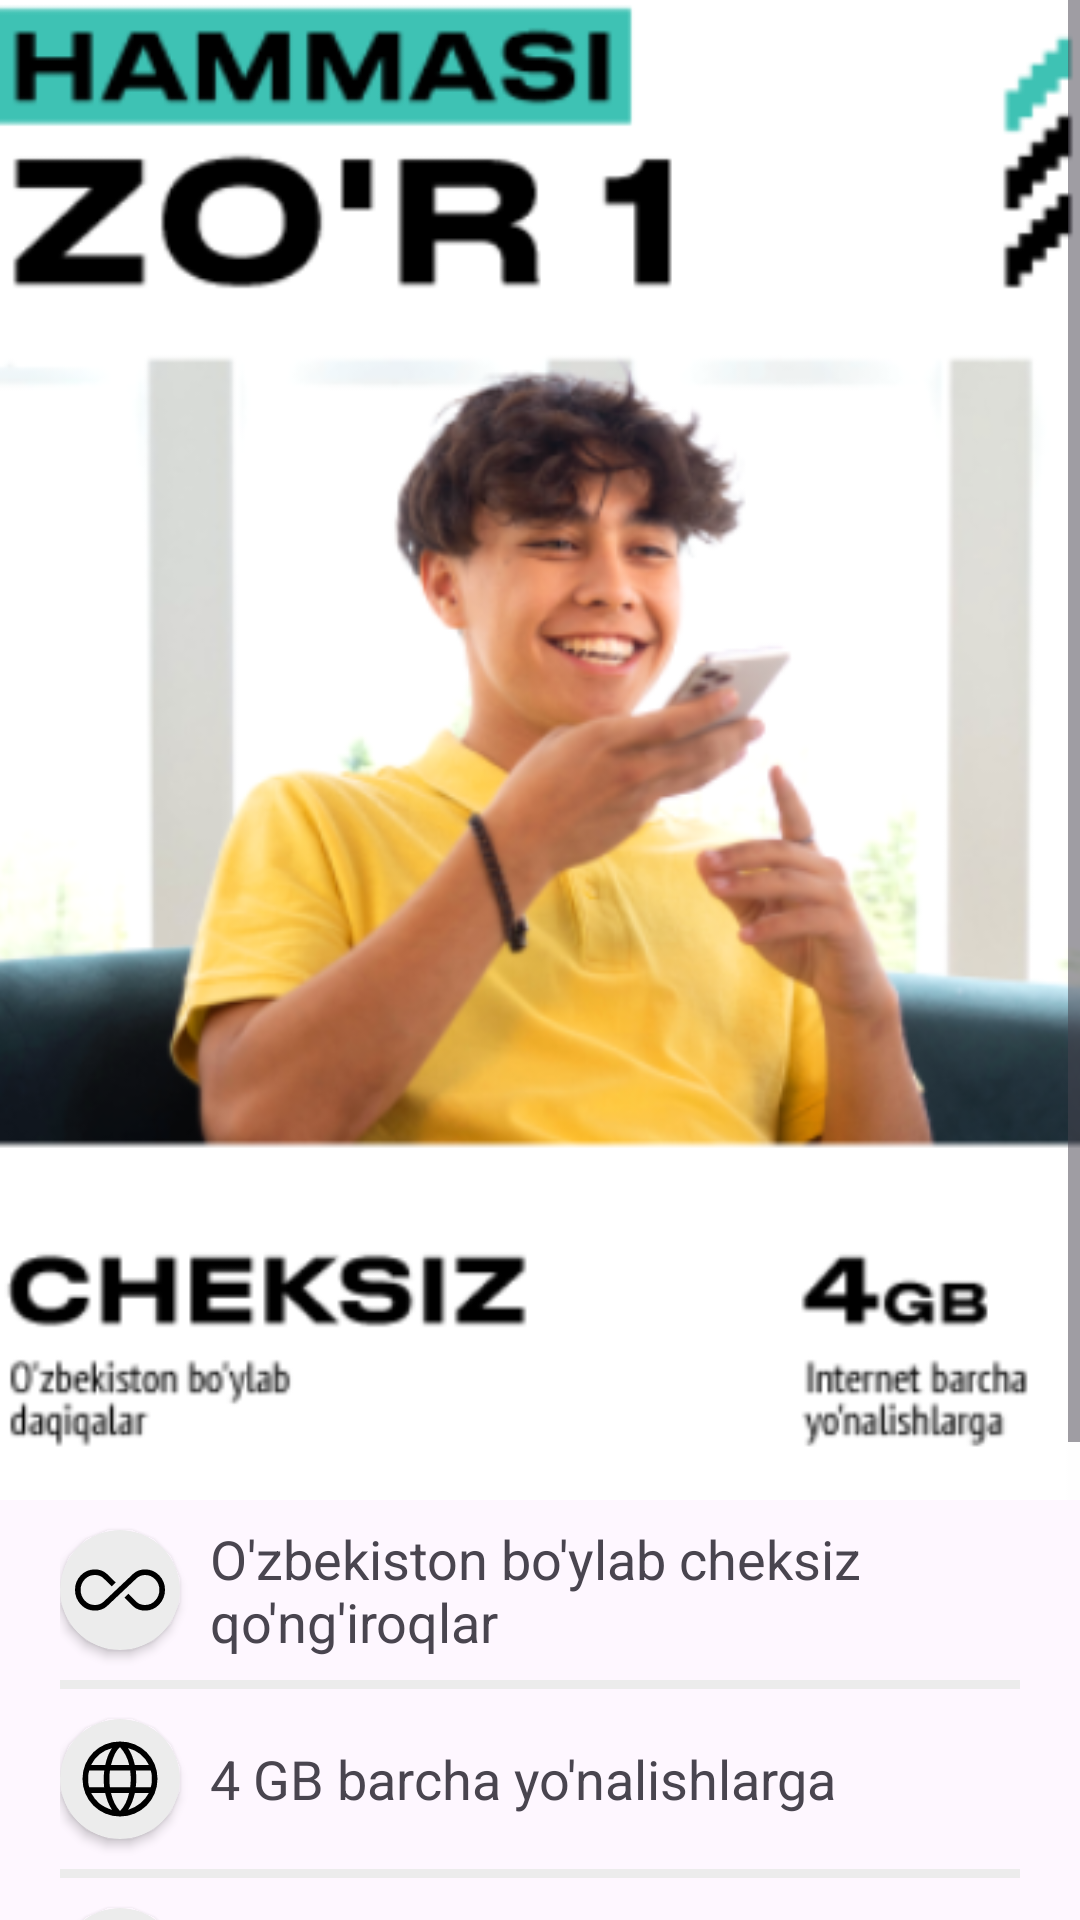

Icons on this 1080px×1920px Android screen, each with its box as (x1, y1, x2, y2):
infinity: (75, 1569, 165, 1611)
internet: (82, 1741, 165, 1820)
